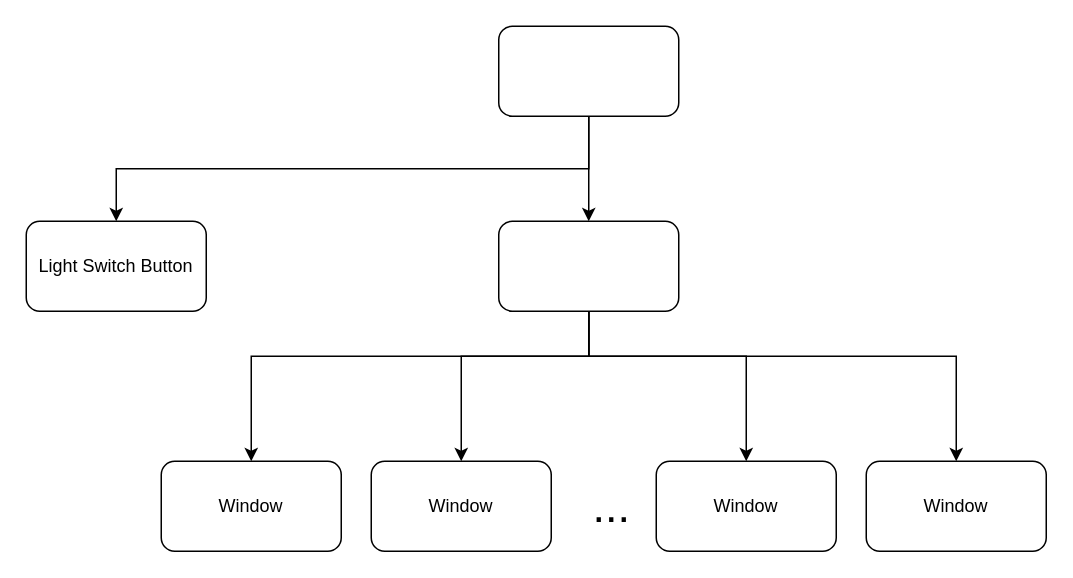
Image size: 1073x578. Some labels were removed from this diagram. Each missing label, with the box of its shape:
Building: (497, 220, 679, 311)
Scene: (497, 25, 679, 116)
